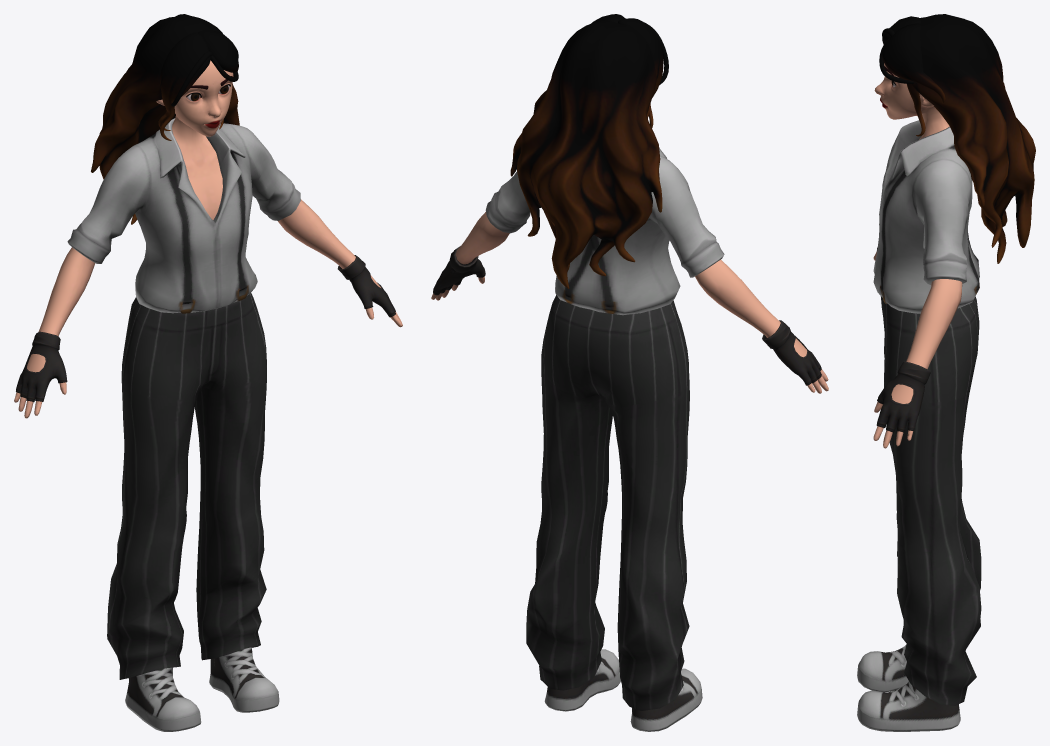
The model's file is StaffClarissa_Mesh.obj.
3 renders of one model, left to right at view 1: azimuth 30°, elevation 25°; view 2: azimuth 150°, elevation 25°; view 3: azimuth 270°, elevation 25°, orthographic. The views are drawn at different scales.
Visible parts, largest first — view 1: StaffClarissa_Mesh_0; view 2: StaffClarissa_Mesh_0; view 3: StaffClarissa_Mesh_0.
Boxes of the visible parts, x1=… form: StaffClarissa_Mesh_0: x1=14, y1=14, x2=402, y2=731; StaffClarissa_Mesh_0: x1=431, y1=14, x2=828, y2=731; StaffClarissa_Mesh_0: x1=857, y1=14, x2=1035, y2=731.
Bounding box in the file's own units: 1.06 × 1.8 × 0.4266.
Materials: 1 (1 with a texture image).
